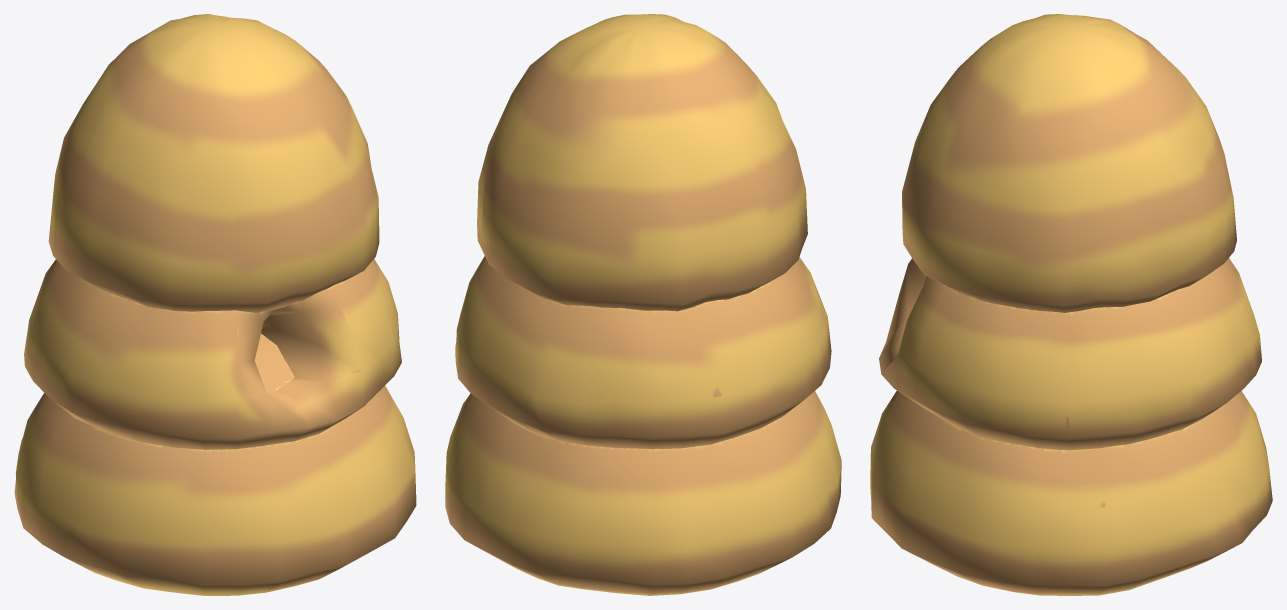
The model's file is hive2.fbx.
3 renders of one model, left to right at view 1: azimuth 30°, elevation 25°; view 2: azimuth 150°, elevation 25°; view 3: azimuth 270°, elevation 25°, orthographic.
Visible parts, largest first — view 1: Sphere.002; view 2: Sphere.002; view 3: Sphere.002.
Boxes of the visible parts, bbox=[...] form: Sphere.002: bbox=[14, 14, 416, 595]; Sphere.002: bbox=[445, 14, 841, 595]; Sphere.002: bbox=[870, 14, 1272, 595].
Bounding box in the file's own units: 191 × 268 × 191.
1 material, 1 textured.
